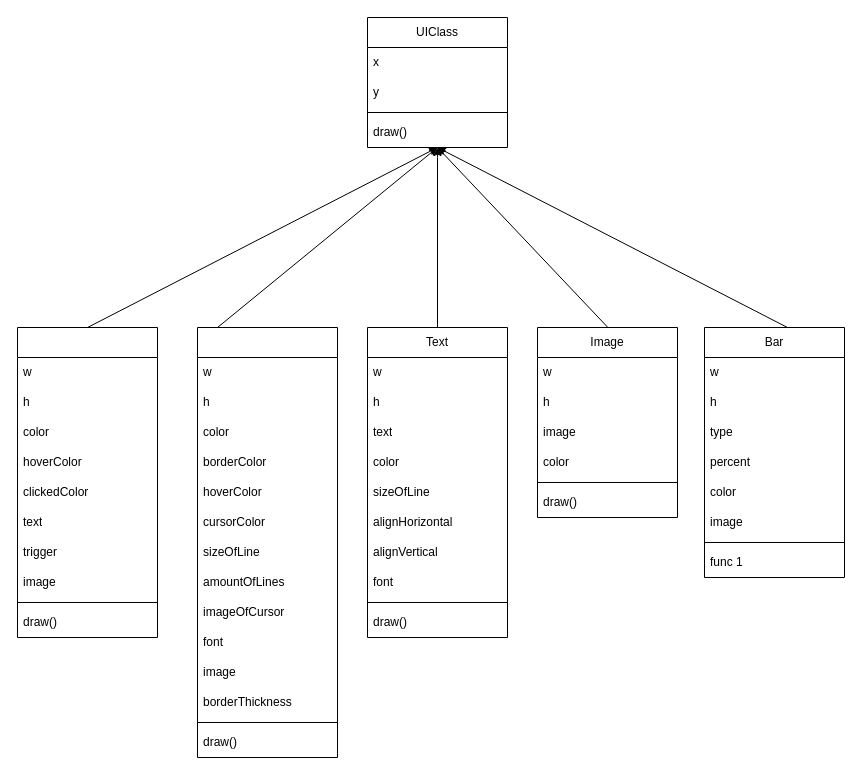
Image size: 862x775. Some labels were removed from this diagram. The box of each missing label's shape, as (x1, y1, x2, y2) in pixels:
Button: (16, 326, 158, 638)
TextField: (196, 326, 338, 758)
